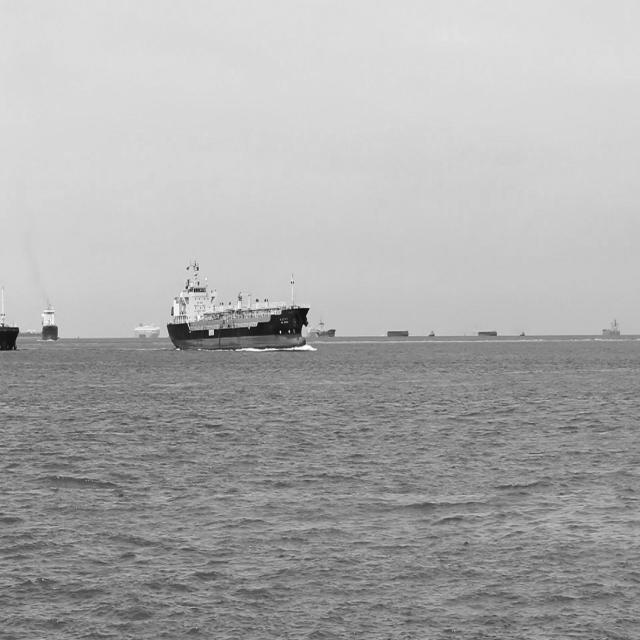ship: (166, 255, 312, 353), (0, 280, 20, 353), (306, 314, 336, 342), (42, 300, 59, 341), (133, 322, 160, 341), (601, 316, 622, 340), (18, 327, 42, 340)
